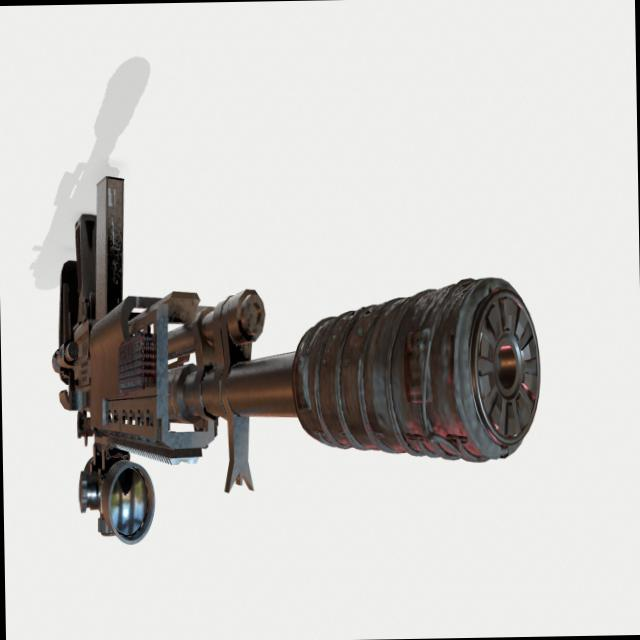Gun: (52, 98, 551, 589)
